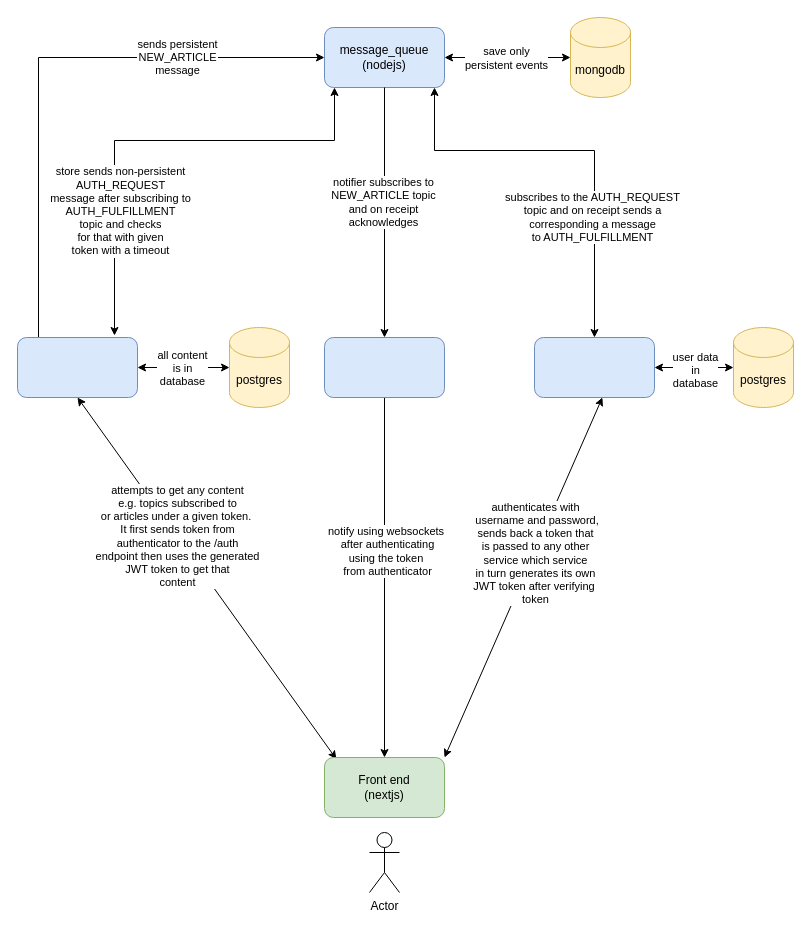
Image size: 811x931. Some labels were removed from this diagram. The box of each missing label's shape, as (x1, y1, x2, y2) in pixels:
authenticator (nodejs): (534, 336, 654, 398)
notifier (nodejs): (324, 336, 444, 398)
store (python): (16, 336, 138, 398)
